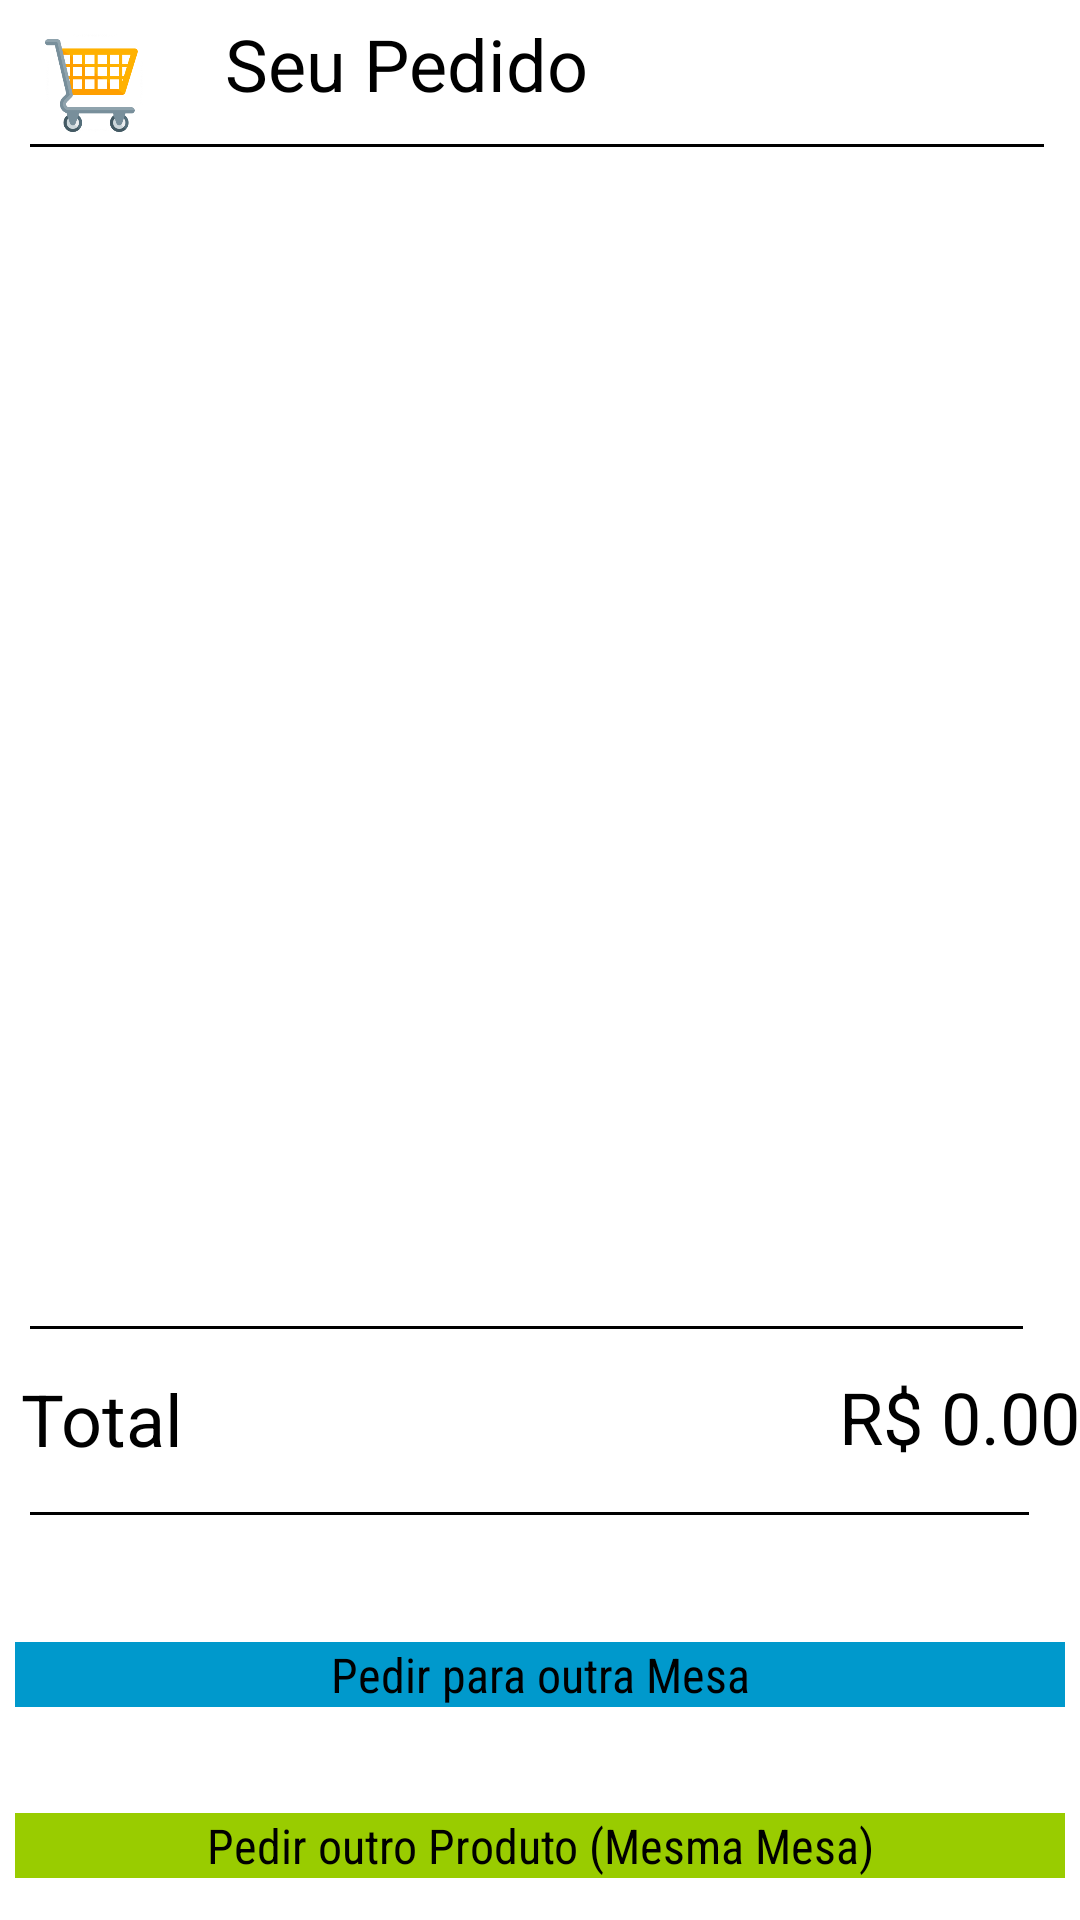

Icon bounding boxes for this 1080w x 1920h phone screenshot, format (x1,y1,x2,y2):
cart: (45,39,138,132)
